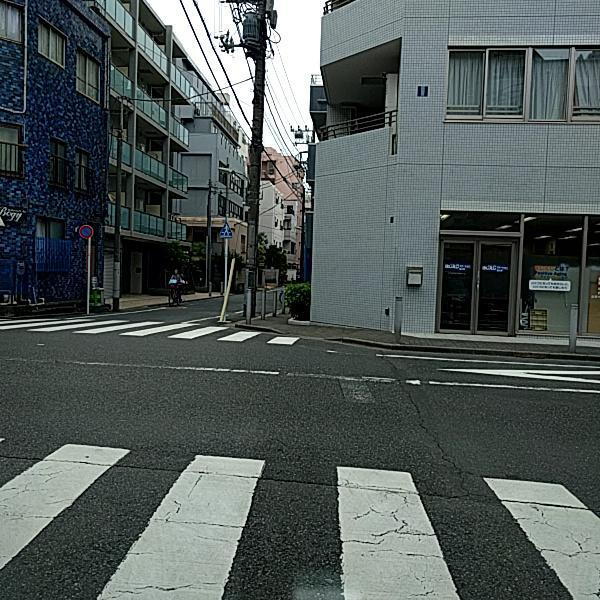D00: (393, 378, 462, 483)
